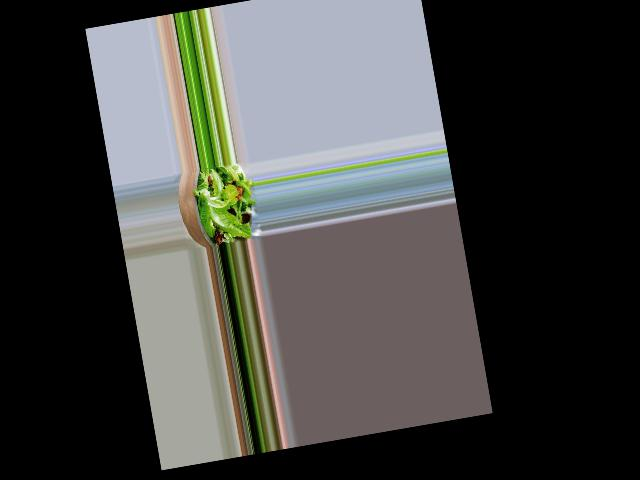lettuce: (192, 165, 257, 240)
